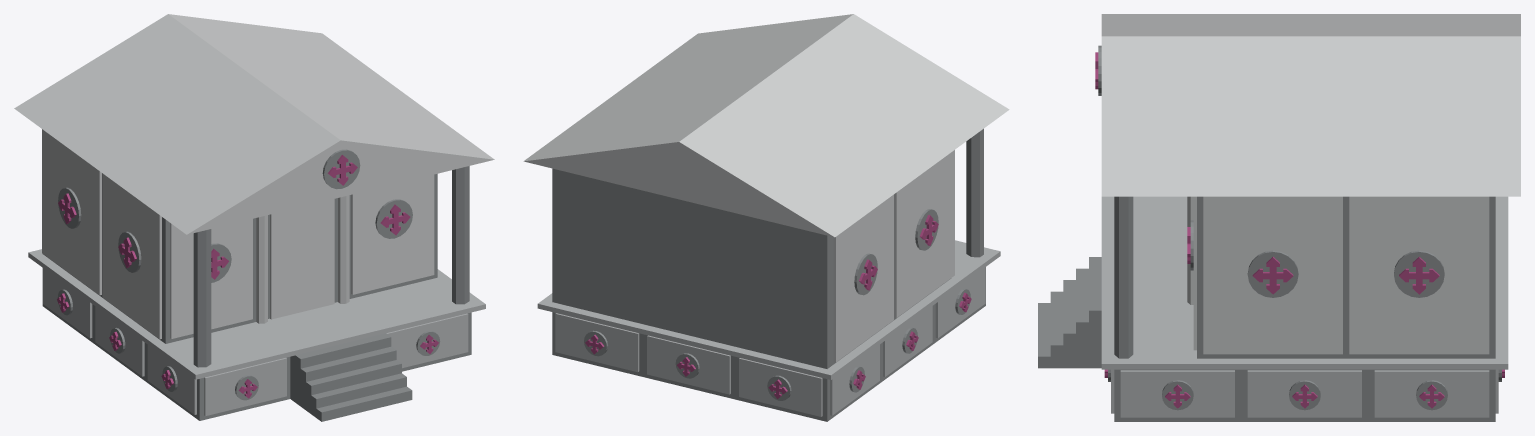
File: graveyard.glb
The picture shows the model from 3 angles, left to right: view 1: azimuth 30°, elevation 25°; view 2: azimuth 150°, elevation 25°; view 3: azimuth 270°, elevation 25°; orthographic projection. The views are drawn at different scales.
Parts seen in each view (by area): view 1: Mesh_Mesh_head_geo.001_lambert2SG.001; view 2: Mesh_Mesh_head_geo.001_lambert2SG.001; view 3: Mesh_Mesh_head_geo.001_lambert2SG.001.
Part boxes in pixels (box(x1,y1,x2,y2)): Mesh_Mesh_head_geo.001_lambert2SG.001: box(14, 14, 494, 421); Mesh_Mesh_head_geo.001_lambert2SG.001: box(523, 14, 1009, 421); Mesh_Mesh_head_geo.001_lambert2SG.001: box(1038, 14, 1520, 421).
Size of the model in its own units: 68 by 53 by 76.
